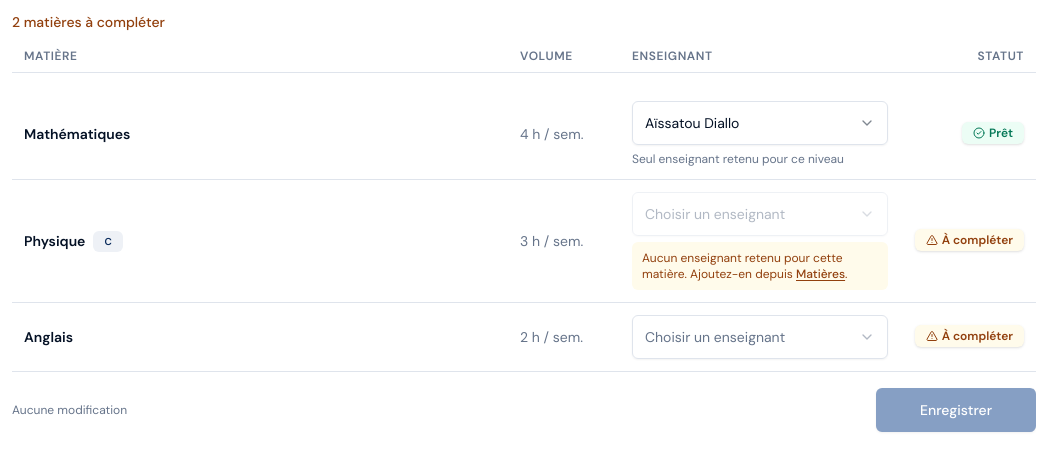
Test: Panneau « Enseignants de la classe » › n'affiche pas « Aucun enseignant » pour une matière qui n'a qu'un choix
Step 1. Press the mouse on the dropdown named "Enseignant de Mathématiques" → (760, 123), box [632,101,888,145]
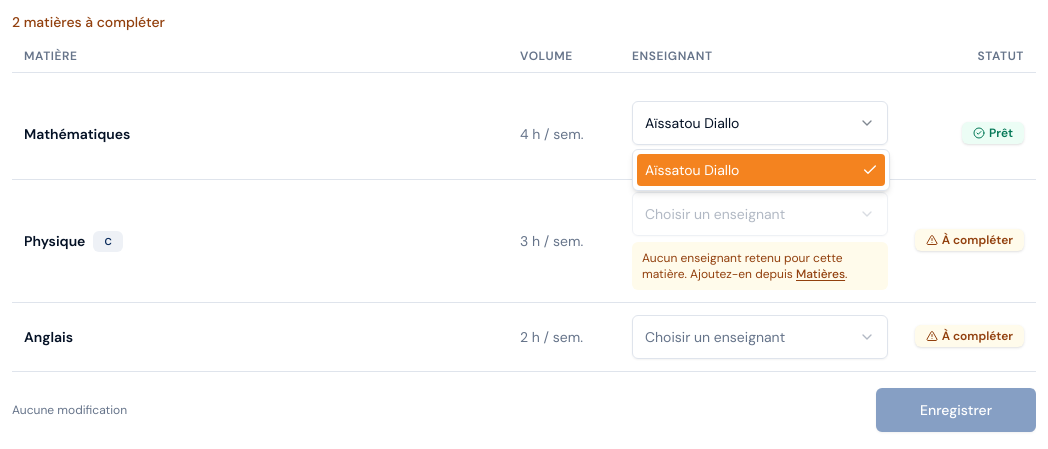
Result: the option "Aïssatou Diallo" is shown at [637,154,885,186]
